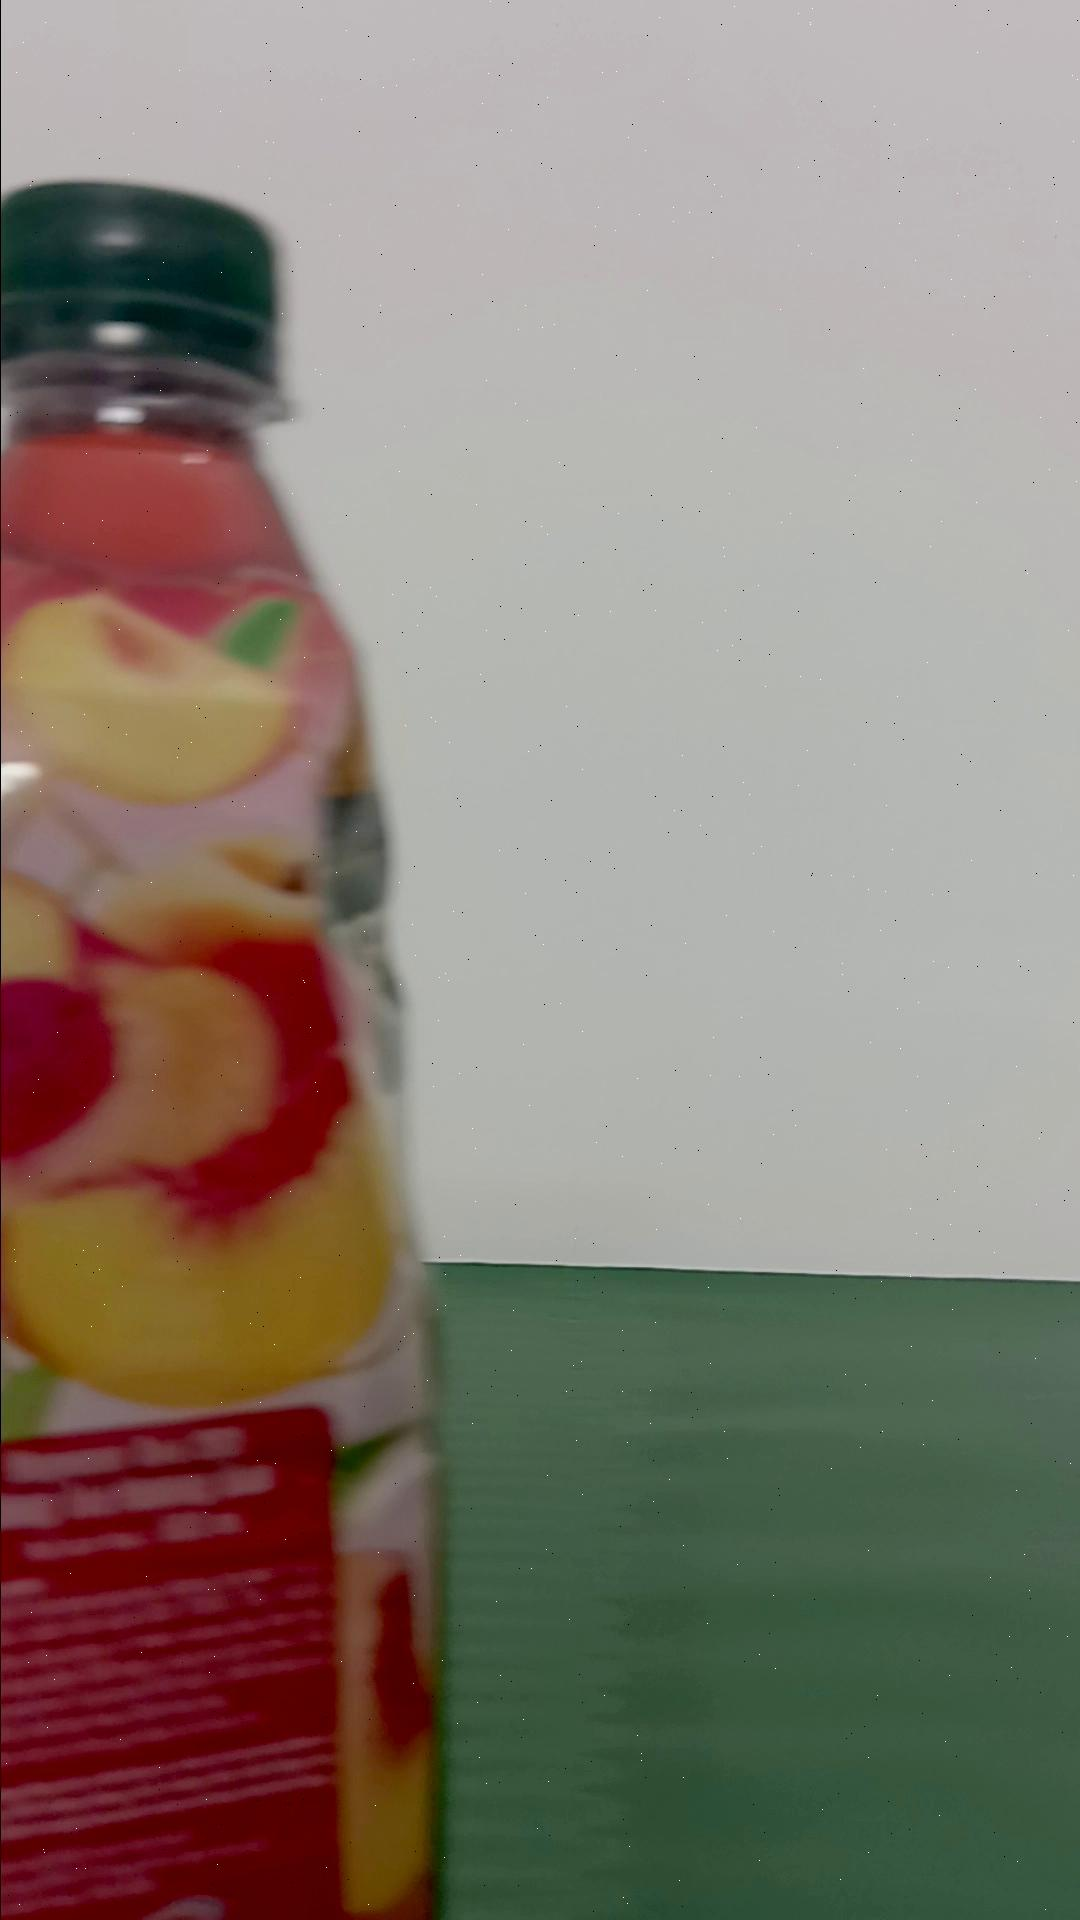loi meo sp: (3, 175, 448, 1913)
